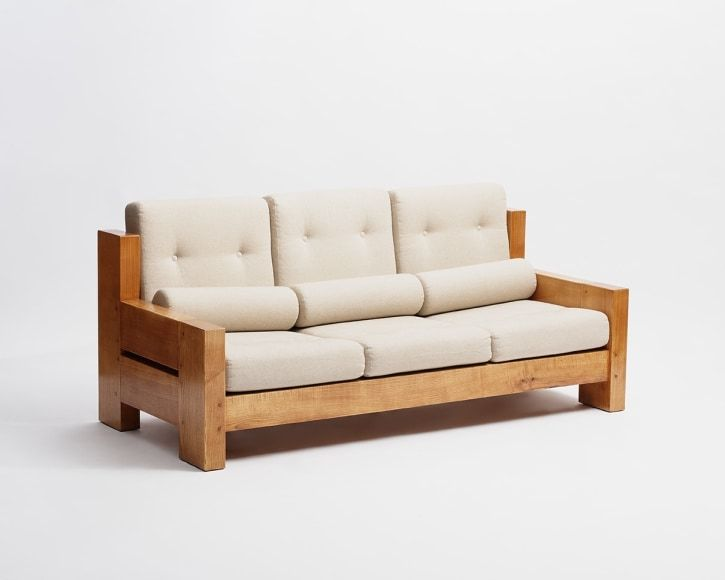3seatersofa: (98, 184, 627, 470)
backrest: (127, 184, 508, 298)
base: (226, 351, 608, 429)
leftarmrest: (535, 274, 627, 313), (507, 210, 525, 257)
leg: (98, 326, 226, 473), (574, 291, 629, 416)
pillow: (154, 259, 535, 330)
rightarmrest: (95, 225, 222, 347)
seat: (227, 300, 608, 392)
